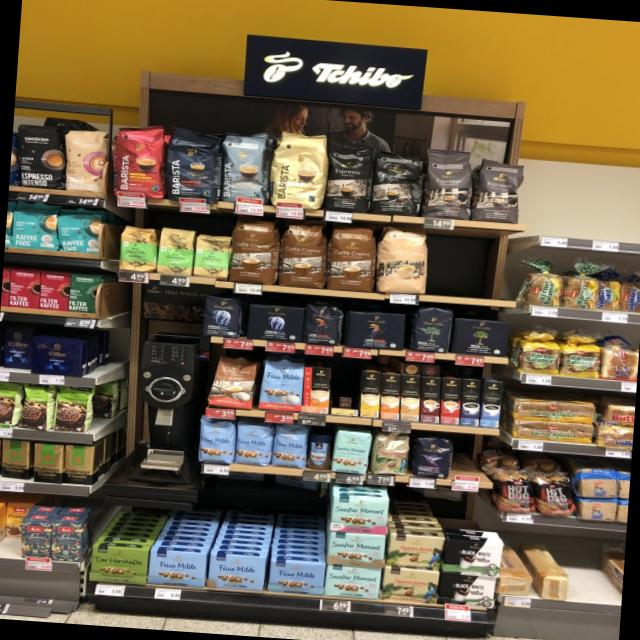AB Bohne: (200, 294, 243, 340)
AB Gemahlen: (244, 304, 305, 344)
Athiopien Bohne: (116, 223, 160, 274)
Athiopien Gemahlen: (156, 226, 196, 277), (192, 232, 232, 280)
BM Bohne: (410, 306, 454, 354)
BM Gemahlen: (450, 316, 512, 358)
BW Gemahlen: (442, 535, 504, 579), (436, 572, 498, 611)
Barista CB: (264, 128, 332, 212)
Barista CC: (218, 130, 273, 208)
Barista Espresso: (163, 128, 228, 207)
Barista Kolumbien: (106, 122, 171, 200)
C Fino Bohne: (409, 436, 454, 478)
CC Mild: (374, 226, 432, 296)
CC Vollmundig 36 Pads: (324, 224, 379, 293), (276, 220, 330, 290), (228, 220, 284, 286)
Colombia BB Bohne: (369, 432, 412, 476)
Colombia BB Gemahlen: (378, 565, 440, 607), (385, 531, 444, 569)
Empty Shelf: (425, 235, 506, 298), (328, 367, 364, 416), (452, 440, 486, 480)
Espresso Aromatisch: (420, 144, 476, 222), (472, 157, 524, 224), (202, 353, 260, 411)
Espresso Kraftig: (322, 141, 378, 214), (368, 152, 424, 216)
FM 36 Pads: (255, 356, 306, 414)
FM Bohne: (268, 423, 313, 470), (232, 419, 274, 467), (195, 417, 237, 464)
FM Gemahlen: (146, 548, 208, 587), (206, 552, 266, 592), (268, 558, 328, 596)
FM Instant: (305, 429, 334, 471)
Herzhatfe Mundig: (88, 544, 150, 586)
LG Bohne: (302, 302, 344, 346)
LG Gemahlen: (344, 310, 409, 351)
SM Bohne: (329, 429, 372, 475)
SM Gemahlen: (326, 530, 388, 570), (330, 493, 389, 534), (321, 565, 381, 600)
Simo CCMild bigpack: (360, 368, 382, 418)
Simo CCVollmundig: (298, 364, 334, 414)
Simo CCVollmundig bigpack: (378, 372, 402, 422)
Simo Decaff: (398, 375, 422, 422)
Simo Es Elegant: (440, 377, 464, 425)
Simo Es Kraft: (418, 376, 443, 425)
Simo Kaffee Kraft: (459, 378, 484, 428)
Simo Kaffee Mild: (480, 379, 502, 428)
